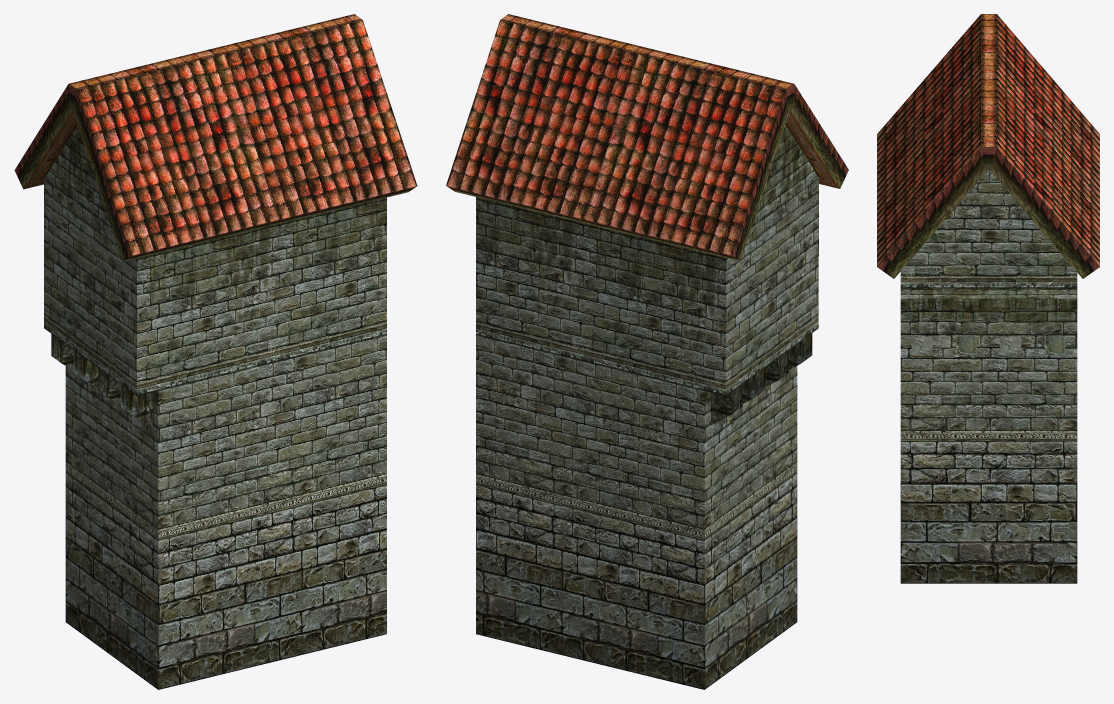
3 views of the same model, side by side, from view 1: azimuth 30°, elevation 25°; view 2: azimuth 150°, elevation 25°; view 3: azimuth 270°, elevation 25° (orthographic). The views are drawn at different scales.
Parts seen in each view (by area): view 1: cc07-col; view 2: cc07-col; view 3: cc07-col.
Part boxes in pixels (x1,y1,x2,y2): cc07-col: (14,14,417,689); cc07-col: (446,14,848,689); cc07-col: (877,14,1099,583).
Size of the model in its own units: 8.01 by 15.48 by 5.67.
10 materials, 10 textured.
